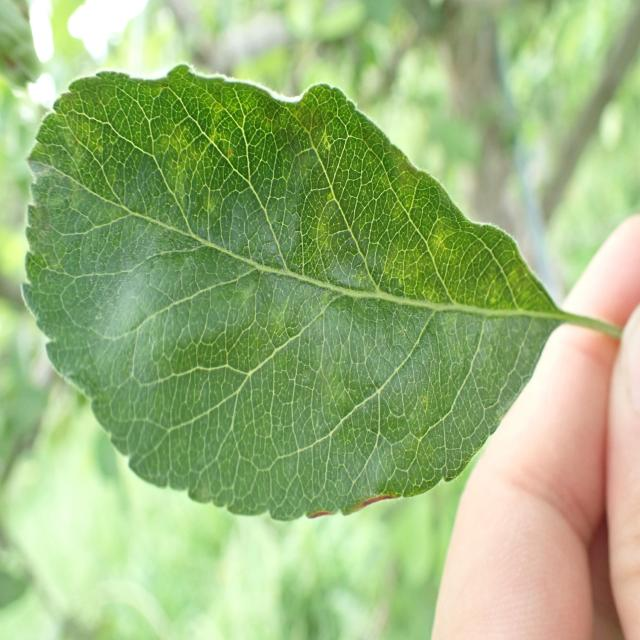scab: (72, 72, 520, 443)
